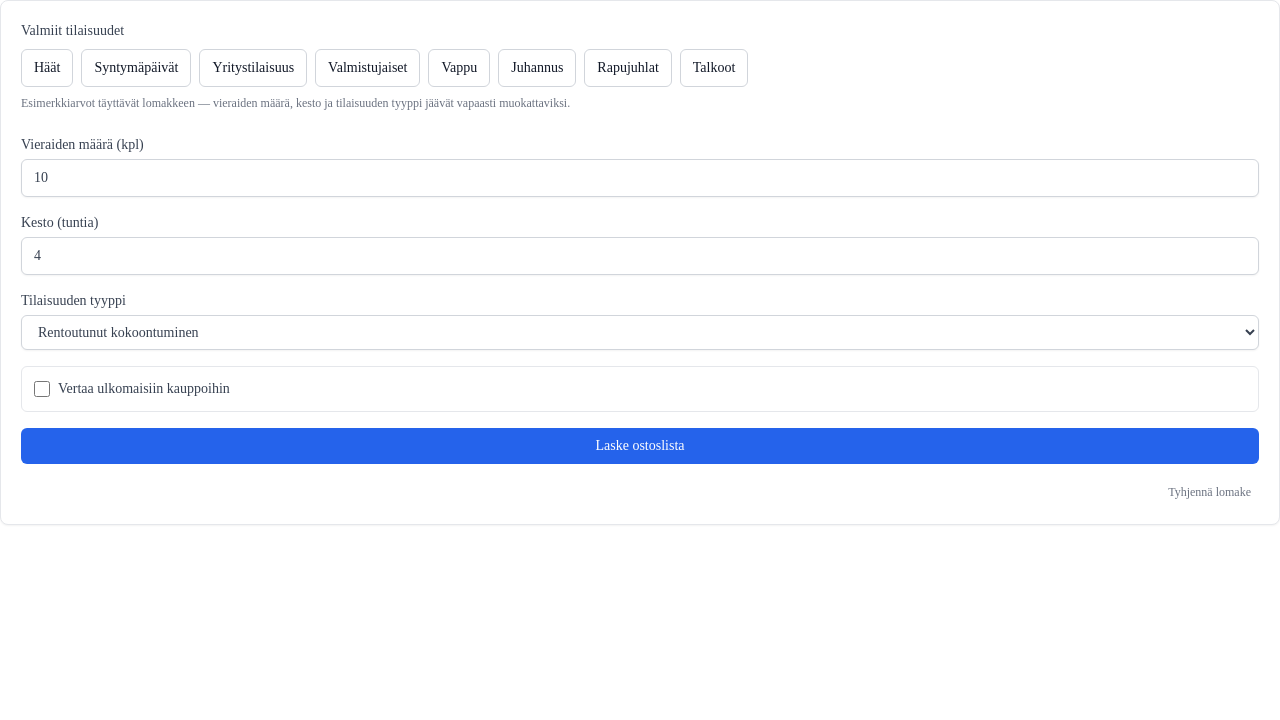
Test: EventView occasion templates (task 4.3) › applying a template fills guests, duration, and the profile (drink mix)
This screenshot has width=1280, height=720.
Click the button with test id "event-template-wedding": (47, 68) [21, 49, 73, 87]
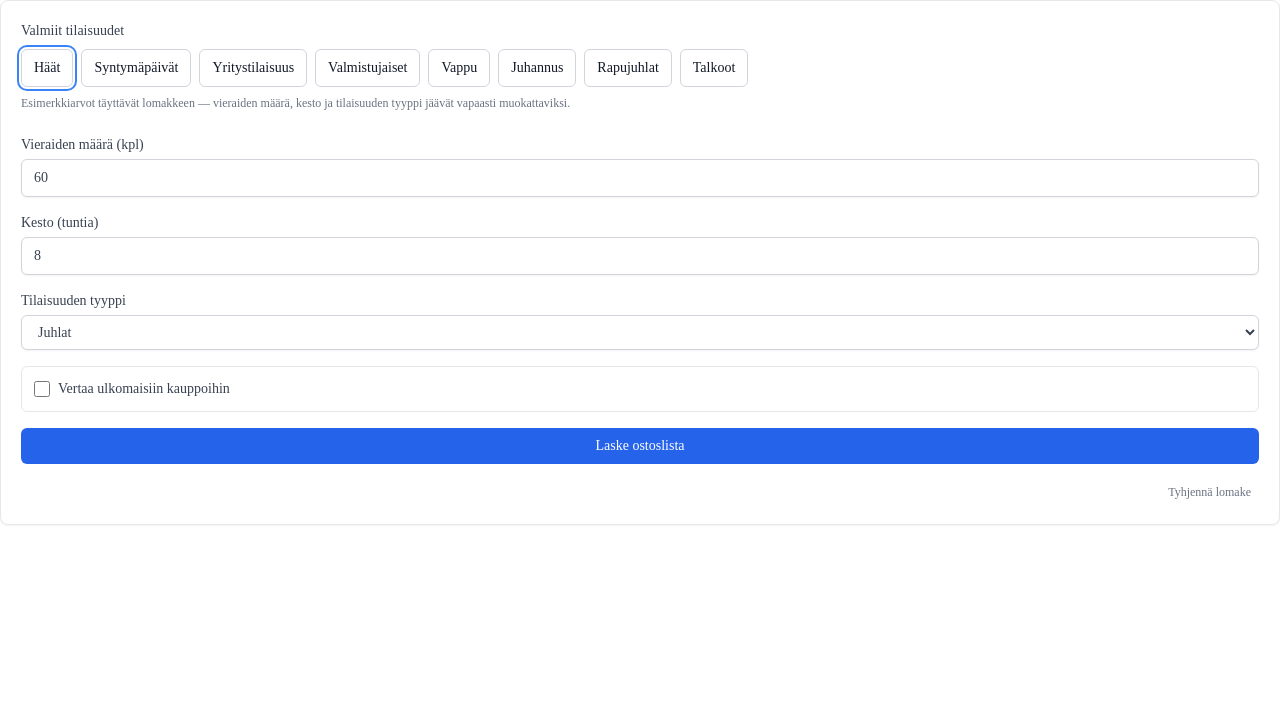
Expected: the number field labelled "Vieraiden määrä (kpl)" holds "60", [21, 159, 1259, 197]
Expected: the number field labelled "Kesto (tuntia)" holds "8", [21, 237, 1259, 275]
Expected: the dropdown with id "event-profile" shows "Juhlat", [21, 315, 1259, 350]
